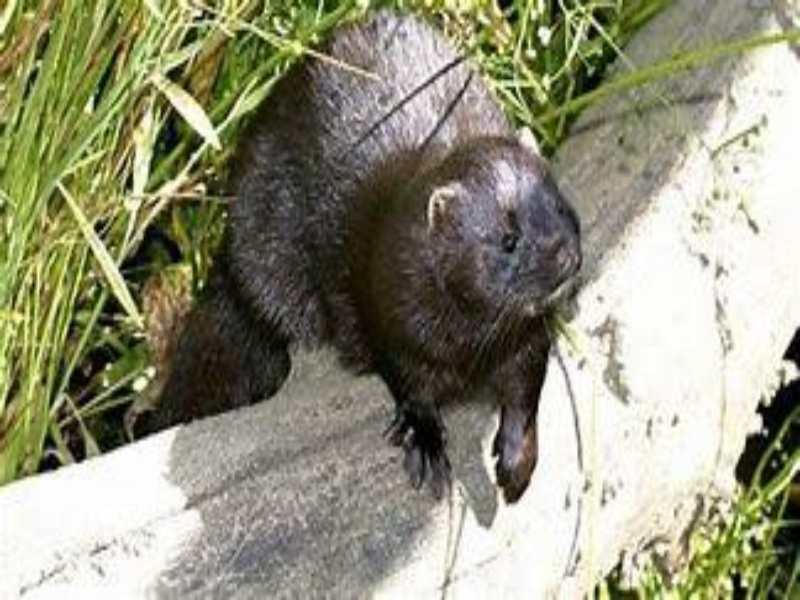minkish: (141, 11, 586, 501)
